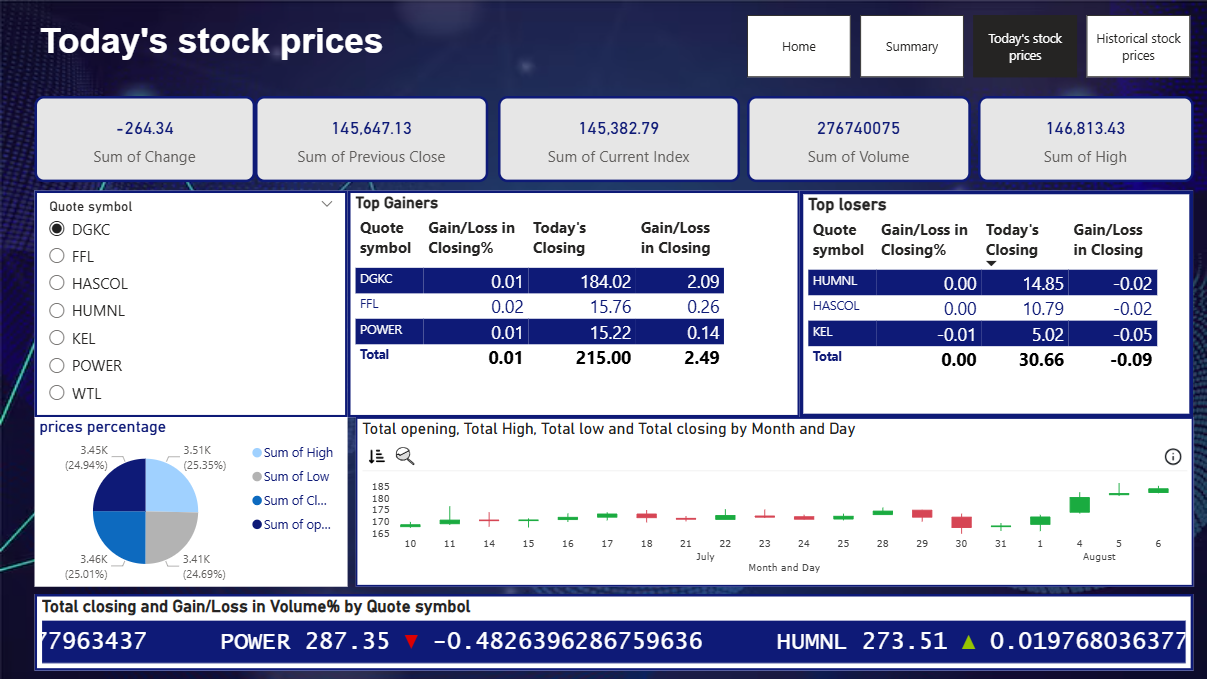

Layout of this report page (visuals, bound fields, positions):
{"tool":"powerbi","page":{"name":"Today's stock prices","canvas":[1280,720],"ordinal":2},"visuals":[{"type":"ScrollingTextVisual1448795304508","fields":{"Category":["stock data.Quote symbol"],"Measure Absolute":["key_measures.Total closing"],"Measure Deviation":["key_measures.Gain/Loss in Volume%"]},"box":[37.1,630,1228.5,81],"z":0},{"type":"pivotTable","title":"Top Gainers","fields":{"Rows":["stock data.Quote symbol"],"Values":["key_measures.Gain/Loss in Closing%","key_measures.Today's Closing","key_measures.Gain/Loss in Closing"]},"box":[369,201.4,479.2,240.8],"z":1000},{"type":"pivotTable","title":"Top losers","fields":{"Rows":["stock data.Quote symbol"],"Values":["key_measures.Gain/Loss in Closing%","key_measures.Today's Closing","key_measures.Gain/Loss in Closing"]},"box":[848.2,201.4,417.4,240.8],"z":2000},{"type":"candlestick95C27C147643B5E840B1D29AC39783F7","fields":{"col_0":["stock data.Date.Variation.Date Hierarchy.Month","stock data.Date.Variation.Date Hierarchy.Day"],"col_1":["key_measures.Total opening"],"col_2":["key_measures.Total High"],"col_3":["key_measures.Total low"],"col_4":["key_measures.Total closing"]},"box":[376.9,442.1,888.8,180],"z":3000},{"type":"slicer","fields":{"Values":["stock data.Quote symbol"]},"box":[37.1,201.4,331.9,240.8],"z":4000},{"type":"textbox","box":[37.1,15.8,401.6,78.8],"z":5000},{"type":"pieChart","title":"prices percentage ","fields":{"Y":["Sum(stock data.High)","Sum(stock data.Low)","Sum(stock data.Close)","Sum(stock data.open)"]},"box":[37.1,442.1,331.9,180],"z":6000},{"type":"card","fields":{"Values":["Sum(Market Highlights.Volume)"]},"box":[792,102.4,237.4,91.1],"z":7000},{"type":"card","fields":{"Values":["Sum(Market Highlights.Change)"]},"box":[37.1,102.4,234,91.1],"z":8000},{"type":"card","fields":{"Values":["Sum(Market Highlights.Previous Close)"]},"box":[271.1,102.4,247.5,91.1],"z":9000},{"type":"card","fields":{"Values":["Sum(Market Highlights.Current Index)"]},"box":[527.6,102.4,256.5,91.1],"z":10000},{"type":"card","fields":{"Values":["Sum(Market Highlights.High)"]},"box":[1037.2,102.4,228.4,91.1],"z":11000},{"type":"pageNavigator","box":[792,15.8,471.4,66.4],"z":12000}]}

Visuals, with their boxes in screenshot pixels (x1, y1, x2, y2), scaled from the page's 1280x720 canvas onto the 1207x679 screenshot:
ScrollingTextVisual1448795304508 - stock data.Quote symbol x key_measures.Total closing: [left=35, top=594, right=1193, bottom=671]
"Top Gainers" pivotTable: [left=348, top=190, right=800, bottom=417]
"Top losers" pivotTable: [left=800, top=190, right=1193, bottom=417]
candlestick95C27C147643B5E840B1D29AC39783F7 - stock data.Date.Variation.Date Hierarchy.Month x stock data.Date.Variation.Date Hierarchy.Day: [left=355, top=417, right=1194, bottom=587]
slicer - stock data.Quote symbol: [left=35, top=190, right=348, bottom=417]
textbox: [left=35, top=15, right=414, bottom=89]
"prices percentage " pieChart: [left=35, top=417, right=348, bottom=587]
card - Sum(Market Highlights.Volume): [left=747, top=97, right=971, bottom=182]
card - Sum(Market Highlights.Change): [left=35, top=97, right=256, bottom=182]
card - Sum(Market Highlights.Previous Close): [left=256, top=97, right=489, bottom=182]
card - Sum(Market Highlights.Current Index): [left=498, top=97, right=739, bottom=182]
card - Sum(Market Highlights.High): [left=978, top=97, right=1193, bottom=182]
pageNavigator: [left=747, top=15, right=1191, bottom=78]
